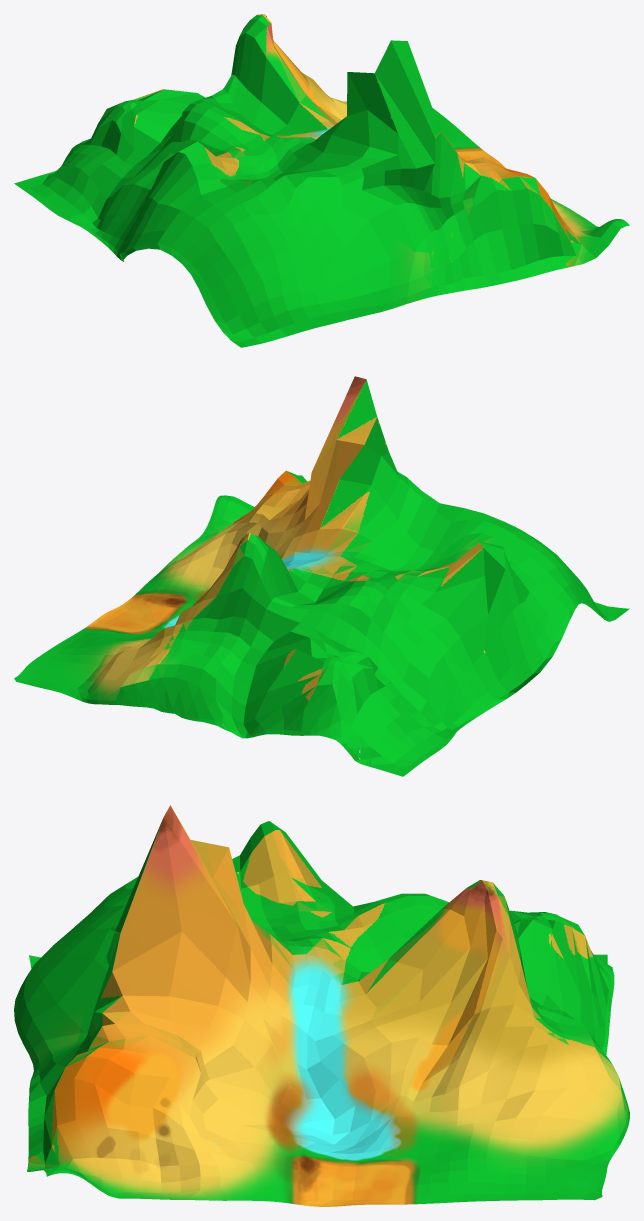
Rendered from Starting Point.fbx.
The picture shows the model from 3 angles, top to bottom: view 1: azimuth 30°, elevation 25°; view 2: azimuth 150°, elevation 25°; view 3: azimuth 270°, elevation 25°; orthographic projection. The views are drawn at different scales.
Parts seen in each view (by area): view 1: Plane; view 2: Plane; view 3: Plane.
Boxes of the visible parts, bbox=[...] form: Plane: bbox=[14, 14, 629, 347]; Plane: bbox=[14, 376, 629, 776]; Plane: bbox=[14, 805, 629, 1206].
Size of the model in its own units: 1059 by 547 by 1061.
